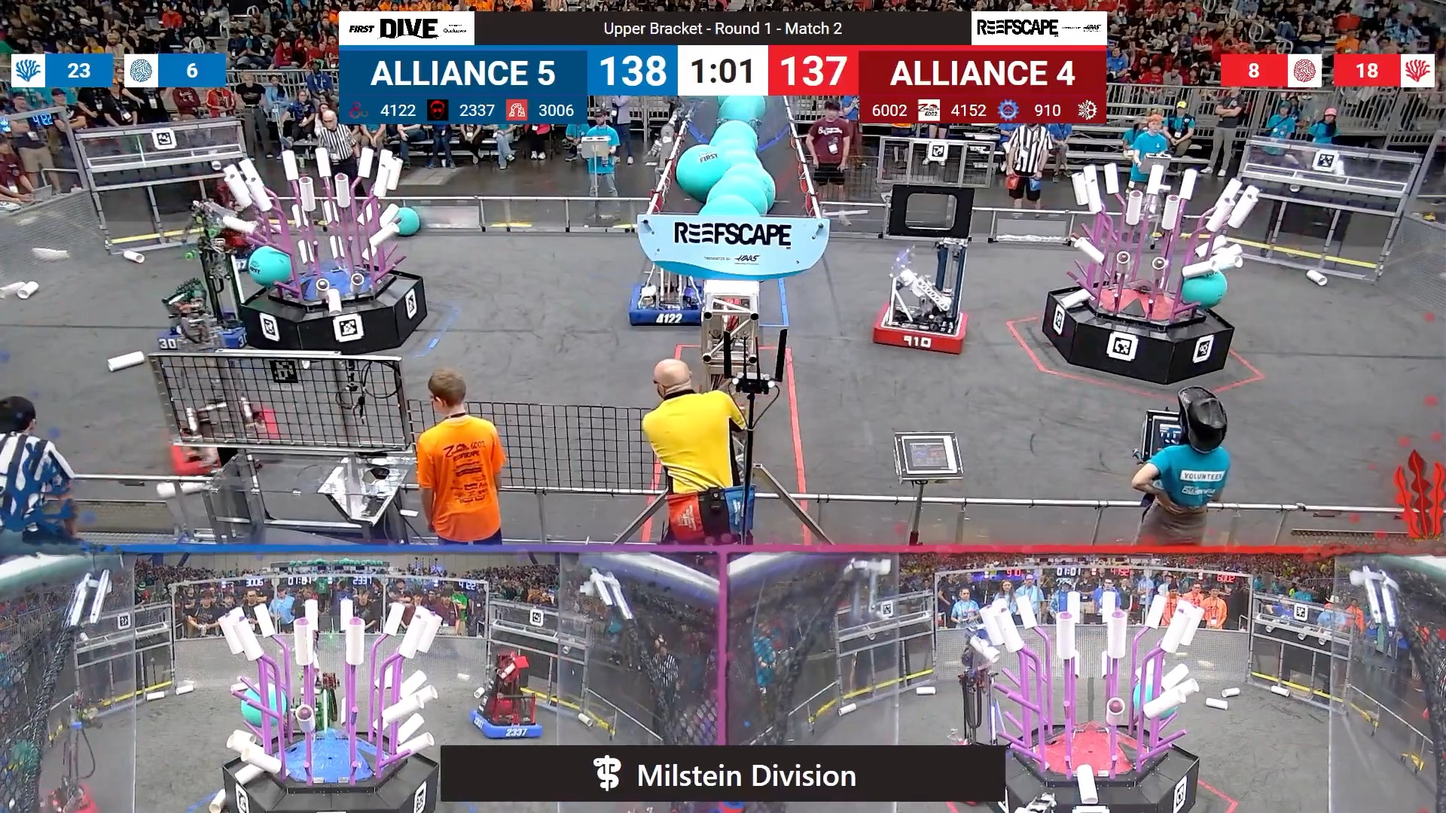bumpers: (164, 410, 284, 481), (863, 297, 978, 360), (624, 277, 715, 330), (160, 303, 253, 349), (460, 702, 551, 743)
